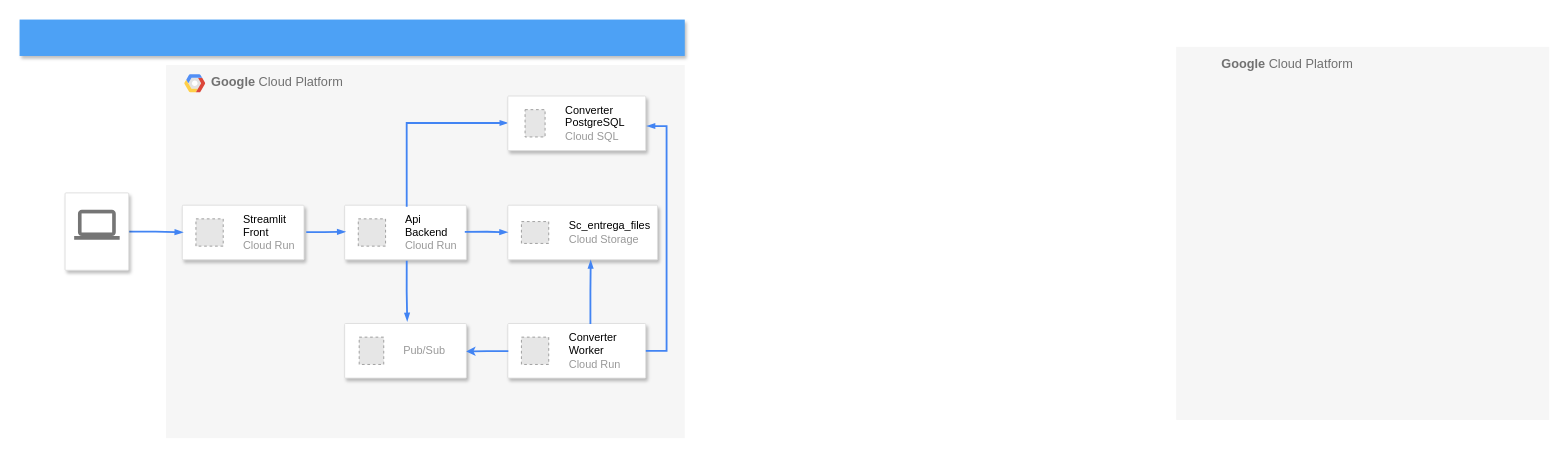
Some shapes in this 1564 by 453 pixel diagram are drawn without their labels. Grey dashed boxes stand in for pictures. Each missing label, with the centre of its shape:
"Architecture: Converting documents to PDF" belongs at pixel 352 38.
"Clients" belongs at pixel 97 232.
